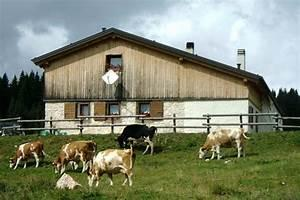cow: (86, 143, 136, 189), (198, 126, 250, 161), (51, 140, 97, 174), (116, 124, 157, 155), (8, 140, 46, 170)
